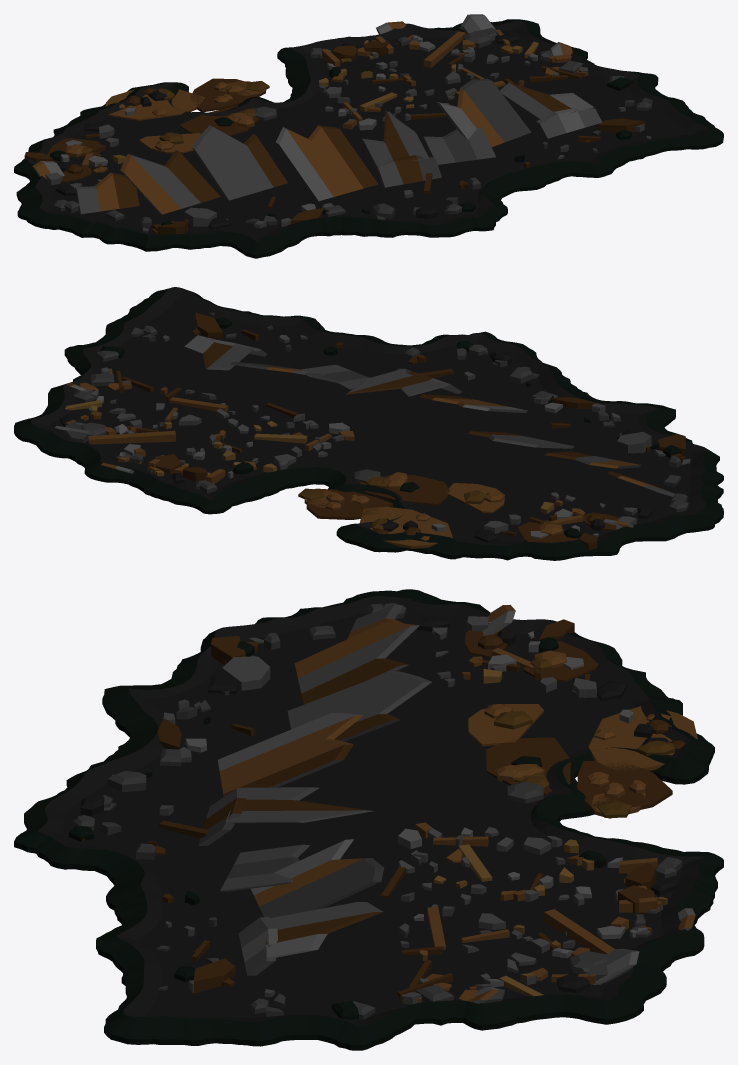
Rendered from tyrbld-wreck.glb.
The picture shows the model from 3 angles, top to bottom: view 1: azimuth 30°, elevation 25°; view 2: azimuth 150°, elevation 25°; view 3: azimuth 270°, elevation 25°; orthographic projection. The views are drawn at different scales.
Visible parts, largest first — view 1: shapesz-tyrbld-wreck-parts; view 2: shapesz-tyrbld-wreck-parts; view 3: shapesz-tyrbld-wreck-parts.
Part boxes in pixels (x1,y1,x2,y2): shapesz-tyrbld-wreck-parts: (14,14,723,258); shapesz-tyrbld-wreck-parts: (14,287,723,560); shapesz-tyrbld-wreck-parts: (14,589,723,1050).
Bounding box in the file's own units: 5.8 × 0.3698 × 3.82.
